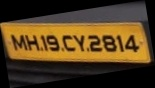character: (10, 34, 28, 51), (24, 33, 41, 51), (124, 34, 139, 53), (88, 34, 103, 52), (102, 34, 117, 52), (46, 34, 60, 51), (62, 35, 76, 51), (73, 34, 85, 51), (39, 34, 48, 51), (116, 34, 124, 52)
